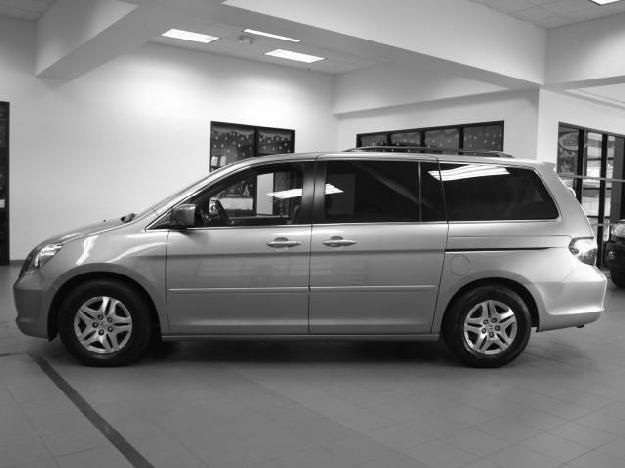car: (9, 147, 611, 373)
